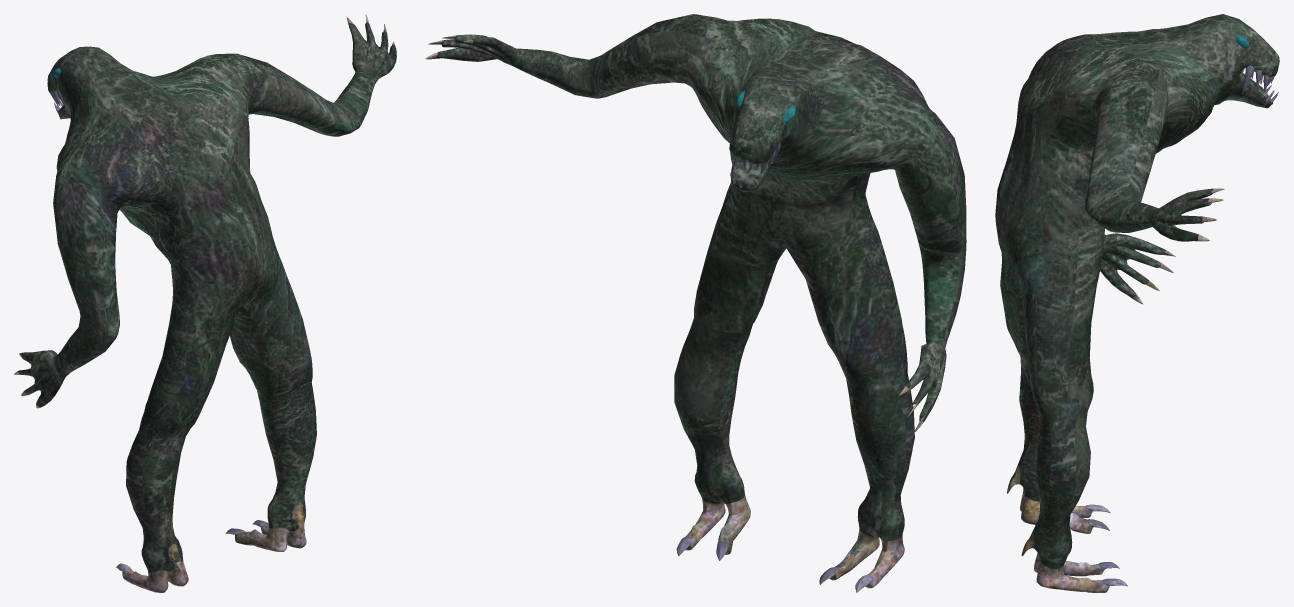
File: Aranar.0024.obj
The picture shows the model from 3 angles, left to right: view 1: azimuth 30°, elevation 25°; view 2: azimuth 150°, elevation 25°; view 3: azimuth 270°, elevation 25°; orthographic projection. The views are drawn at different scales.
Parts seen in each view (by area): view 1: polySurface28; view 2: polySurface28; view 3: polySurface28.
Boxes of the visible parts, x1,y1,x2,y2 form: polySurface28: [14, 14, 396, 592]; polySurface28: [425, 14, 966, 592]; polySurface28: [995, 14, 1279, 592].
Size of the model in its own units: 1.88 by 2.14 by 1.08.
4 materials, 4 textured.
